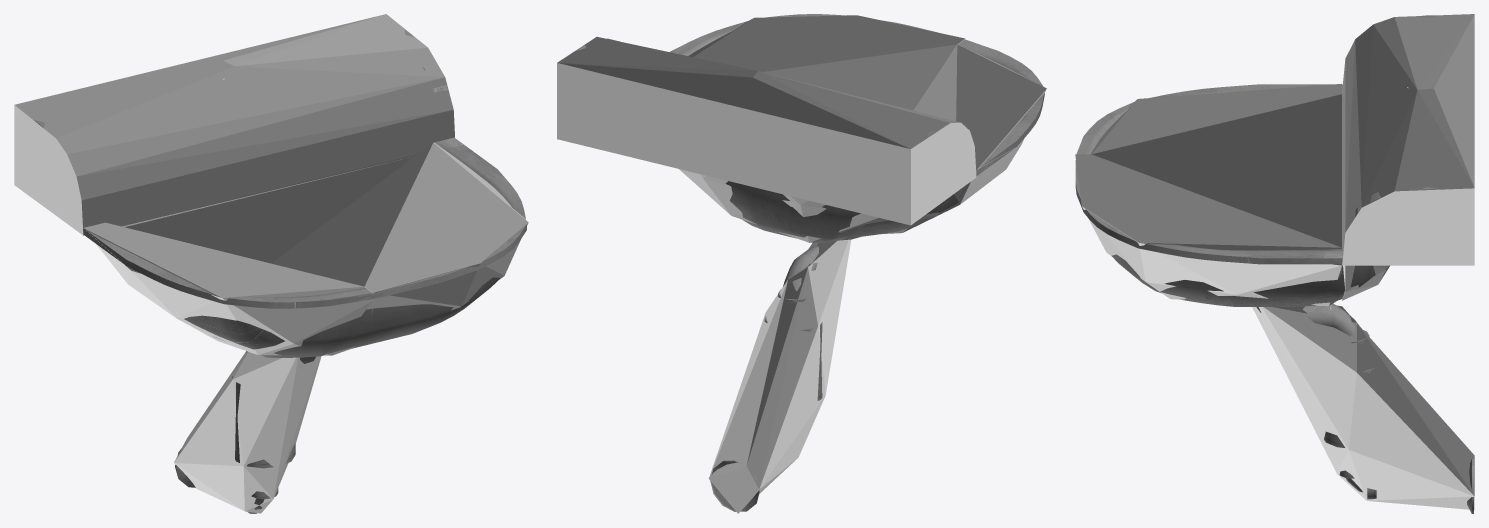
Rendered from SM_Handsink_02.fbx.
3 renders of one model, left to right at view 1: azimuth 30°, elevation 25°; view 2: azimuth 150°, elevation 25°; view 3: azimuth 270°, elevation 25°, orthographic. The views are drawn at different scales.
Parts seen in each view (by area): view 1: SM_Handsink_02_ConvexHulls, SM_Handsink_02; view 2: SM_Handsink_02_ConvexHulls, SM_Handsink_02; view 3: SM_Handsink_02_ConvexHulls, SM_Handsink_02.
Boxes of the visible parts, box(x1,y1,x2,y2) form: SM_Handsink_02_ConvexHulls: box(14, 14, 528, 513); SM_Handsink_02: box(33, 30, 526, 513); SM_Handsink_02_ConvexHulls: box(557, 15, 1046, 513); SM_Handsink_02: box(576, 14, 1044, 511); SM_Handsink_02_ConvexHulls: box(1075, 14, 1474, 509); SM_Handsink_02: box(1075, 15, 1473, 513).
Size of the model in its own units: 68.39 by 66.22 by 77.62.
2 materials, 1 textured.
